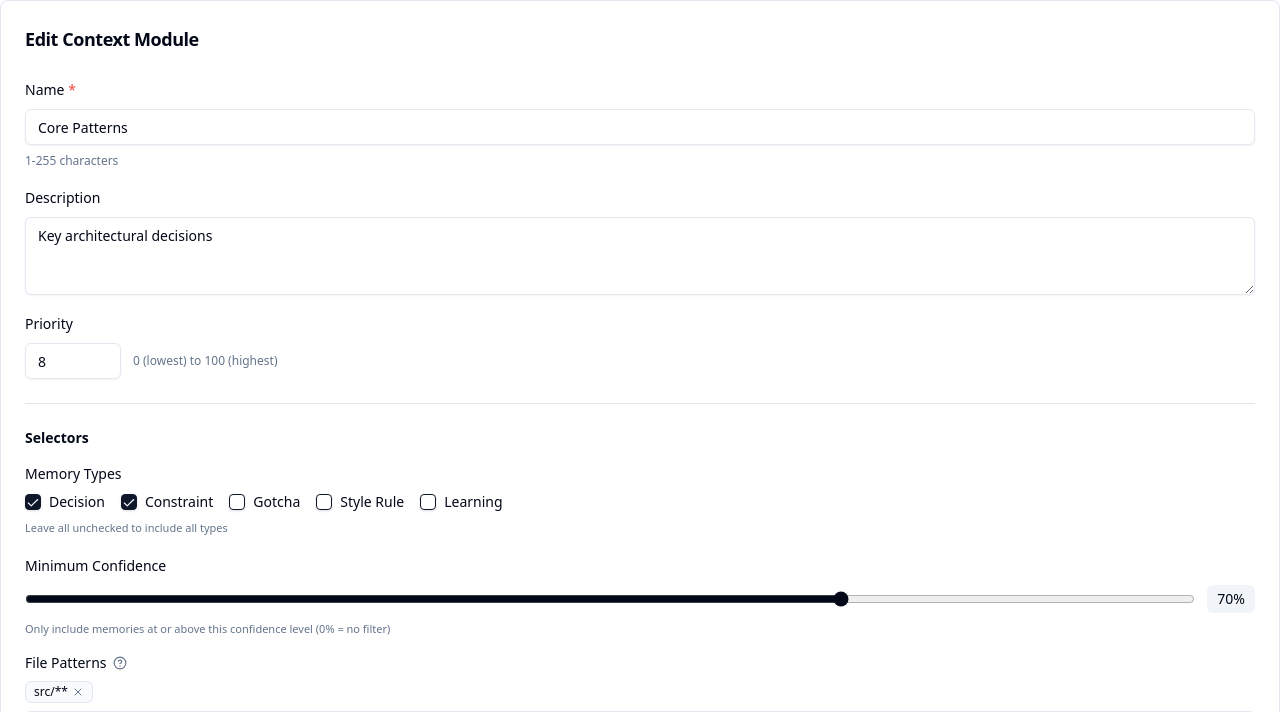
Test: ModuleEditor › Tag Inputs › allows removing a tag by clicking the remove button
The image size is (1280, 712).
// Remove the 'src/**' file pattern tag
Step 1. Click the button named "remove src/**" → (78, 692), box x1=72 y1=686 x2=84 y2=698
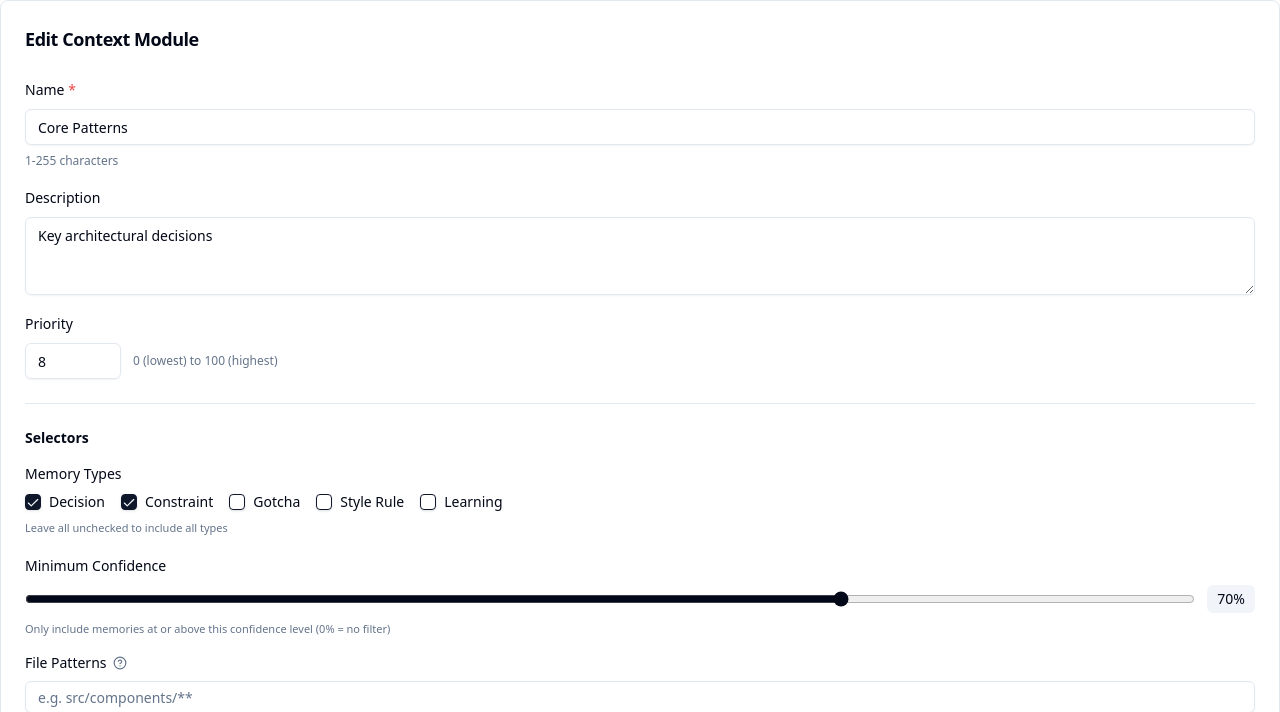
Expected: the list item "src/**" is gone
